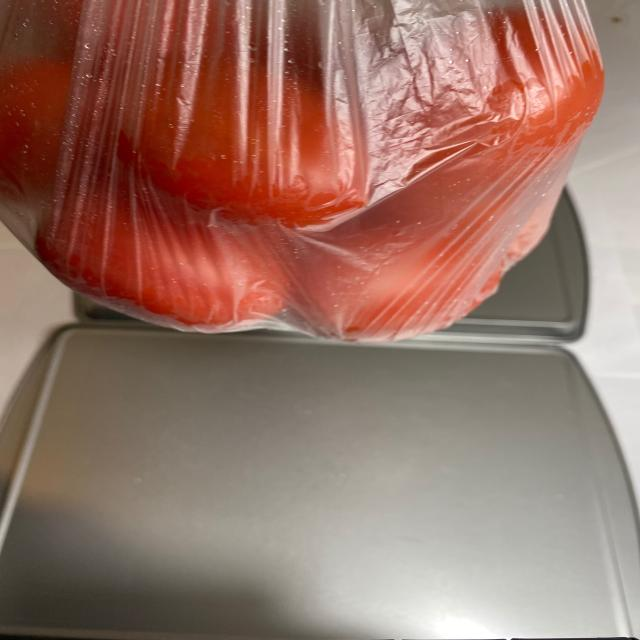tomato: (2, 13, 602, 340)
